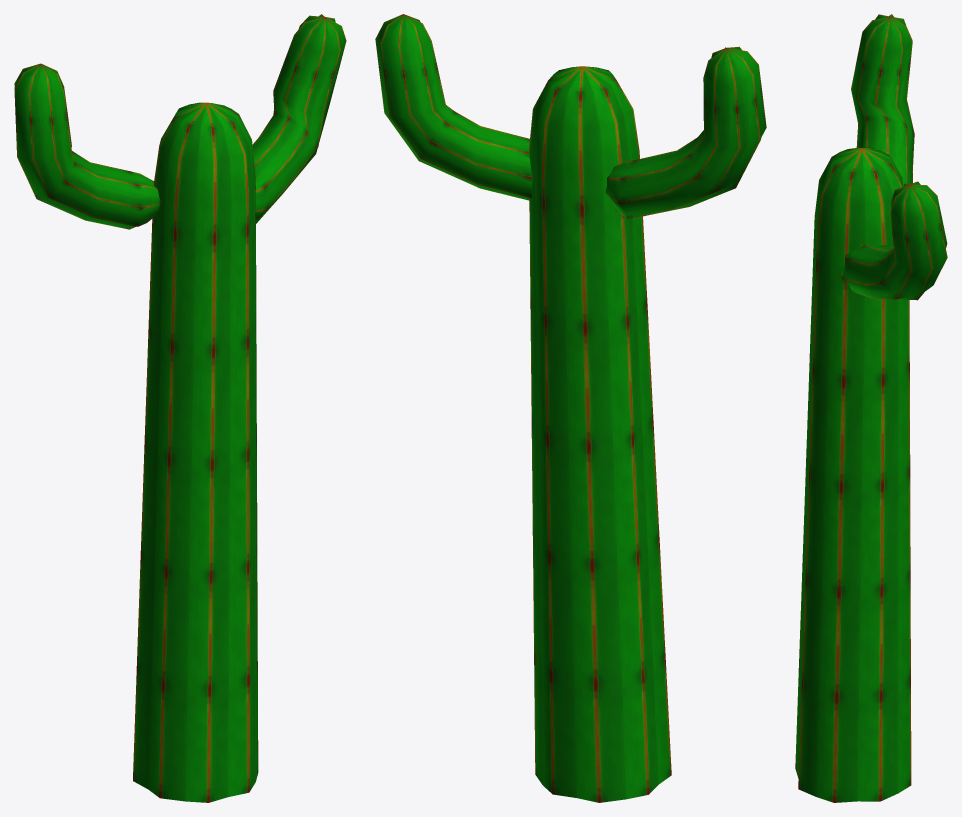
The model's file is caca.fbx.
3 renders of one model, left to right at view 1: azimuth 30°, elevation 25°; view 2: azimuth 150°, elevation 25°; view 3: azimuth 270°, elevation 25°, orthographic. The views are drawn at different scales.
Parts seen in each view (by area): view 1: mesh-5; view 2: mesh-5; view 3: mesh-5.
Boxes of the visible parts, x1=… form: mesh-5: x1=14, y1=14, x2=346, y2=802; mesh-5: x1=375, y1=14, x2=766, y2=802; mesh-5: x1=795, y1=14, x2=947, y2=802.
Bounding box in the file's own units: 272 × 558 × 110.
Materials: 1 (1 with a texture image).
